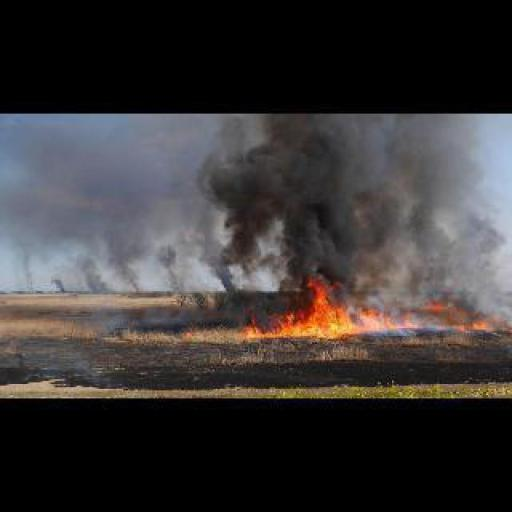smoke: (328, 112, 510, 298), (206, 112, 314, 293), (238, 264, 412, 339), (197, 235, 237, 291), (156, 238, 186, 293), (75, 251, 104, 293), (118, 248, 141, 293), (14, 253, 36, 293), (424, 294, 462, 312), (438, 320, 498, 331), (50, 267, 66, 293), (179, 326, 195, 340)
